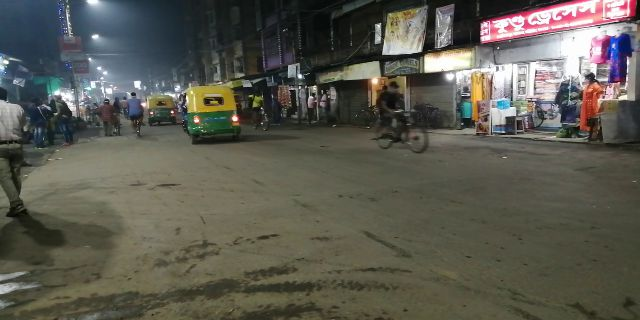Autorickshaw: (180, 87, 244, 139), (146, 91, 177, 130)
Cycle: (363, 84, 433, 156)
